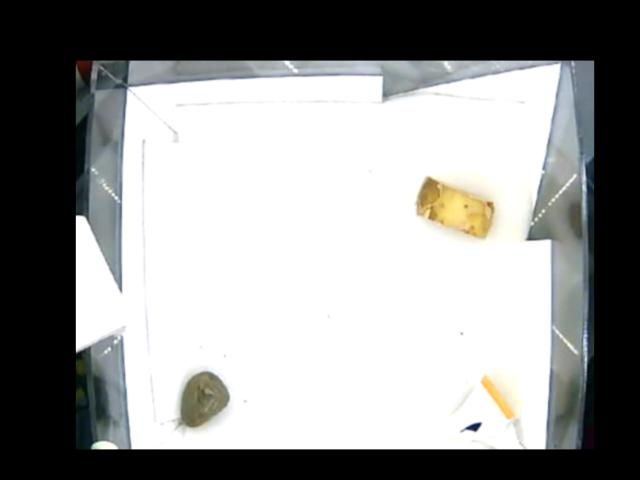China: (438, 372, 531, 449)
Pebble: (177, 370, 230, 426)
Potato: (412, 176, 499, 239)
